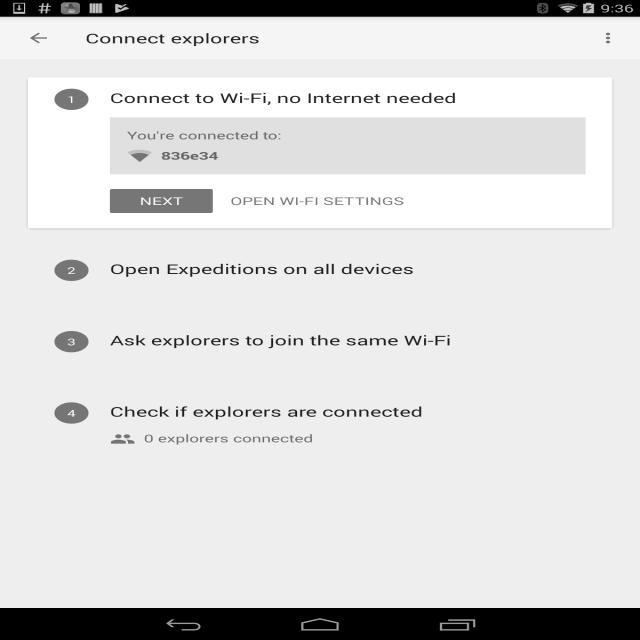Button: (217, 185, 417, 217), (106, 185, 217, 217)
ImageButton: (9, 17, 68, 59)
ImageView: (589, 22, 631, 54), (127, 148, 152, 164)
TextView: (106, 88, 457, 106), (106, 331, 452, 349), (105, 402, 424, 420), (105, 260, 414, 278), (110, 431, 313, 447), (85, 29, 260, 47), (127, 128, 282, 142), (161, 148, 218, 163), (54, 402, 88, 424), (54, 89, 88, 110), (54, 260, 88, 281), (54, 331, 88, 352)
